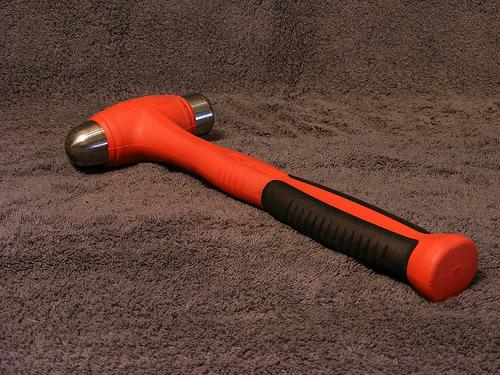hammer: (63, 91, 479, 301)
